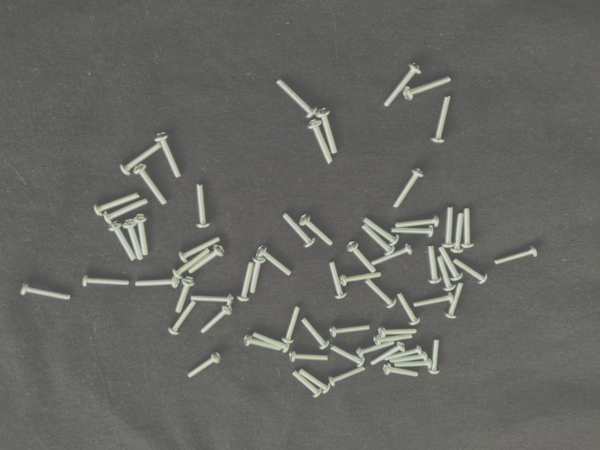longscrew: (276, 76, 319, 120), (384, 62, 423, 108), (133, 163, 169, 205), (119, 141, 162, 176), (154, 131, 183, 179), (392, 167, 425, 209), (403, 75, 453, 102), (172, 247, 212, 280), (103, 197, 149, 225), (307, 119, 334, 166), (282, 211, 316, 248), (179, 235, 222, 264), (299, 213, 334, 248), (94, 191, 141, 217), (361, 216, 400, 247), (188, 244, 227, 275), (430, 94, 454, 144), (107, 221, 136, 262), (361, 223, 396, 256), (315, 107, 339, 155), (256, 245, 292, 277), (371, 242, 415, 267), (168, 300, 198, 336), (346, 240, 377, 274), (364, 279, 398, 310), (300, 316, 331, 350), (187, 350, 222, 380), (200, 304, 234, 334), (19, 282, 72, 301), (495, 245, 540, 267), (252, 330, 291, 355), (438, 246, 465, 282), (453, 258, 489, 285), (122, 218, 144, 261), (291, 370, 323, 399), (330, 343, 367, 368), (371, 341, 406, 367), (397, 290, 422, 326), (328, 365, 367, 388), (298, 368, 331, 395), (174, 276, 197, 314), (443, 282, 465, 320), (395, 212, 440, 230), (436, 254, 457, 292), (328, 261, 348, 300), (385, 343, 424, 363), (247, 255, 267, 294), (282, 306, 302, 344), (244, 332, 282, 352), (413, 291, 455, 309), (195, 183, 211, 230), (237, 262, 255, 303), (133, 213, 150, 256), (356, 341, 396, 359), (329, 322, 371, 339), (340, 271, 383, 287), (190, 291, 235, 306), (135, 276, 180, 291), (391, 224, 435, 239), (289, 349, 330, 365), (81, 275, 131, 288), (461, 206, 476, 249), (441, 206, 456, 249), (427, 245, 443, 285), (382, 362, 419, 379), (450, 212, 465, 253), (389, 350, 429, 365), (373, 333, 414, 347), (428, 338, 443, 376), (377, 326, 419, 339), (393, 357, 432, 371)
